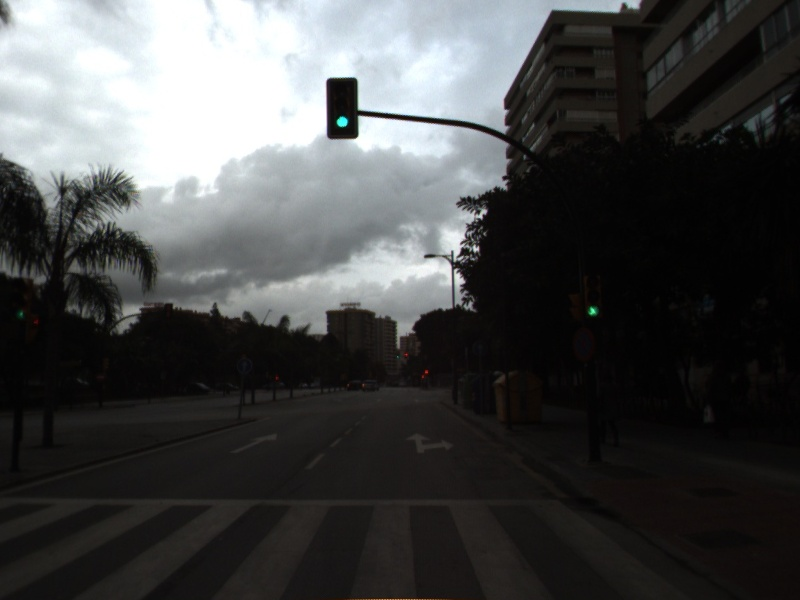STRAIGHT: (226, 431, 280, 455)
STRAIGHT_RIGHT: (404, 431, 456, 455)
